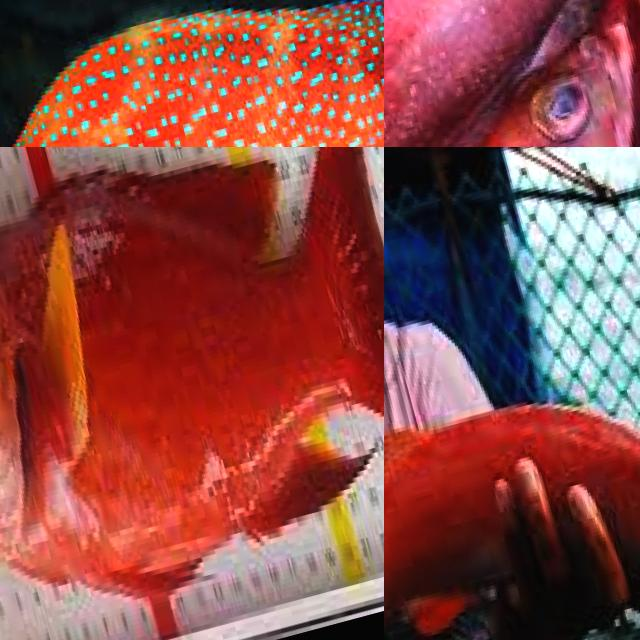Leopard coral grouper: (0, 147, 384, 640), (384, 327, 640, 640), (0, 0, 384, 147), (384, 0, 640, 147)
